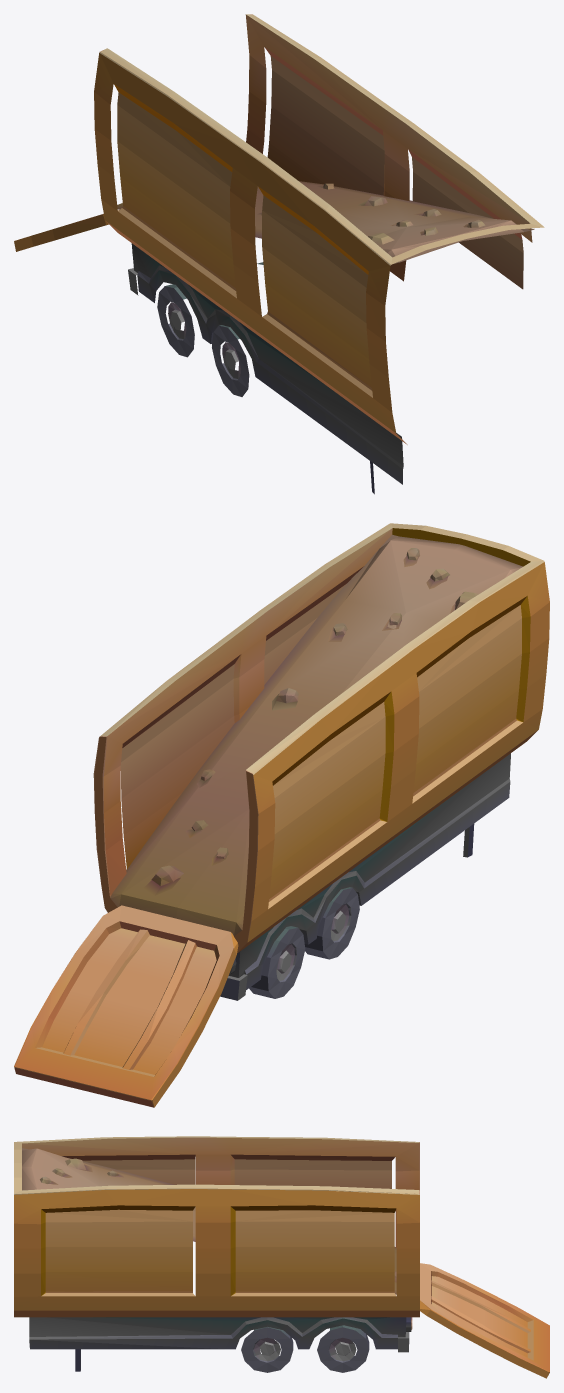
File: city_ramp5_truckRamp01.glb
3 views of the same model, one above another, from view 1: azimuth 30°, elevation 25°; view 2: azimuth 150°, elevation 25°; view 3: azimuth 270°, elevation 25° (orthographic). The views are drawn at different scales.
Parts seen in each view (by area): view 1: city_ramp5_truckRamp01; view 2: city_ramp5_truckRamp01; view 3: city_ramp5_truckRamp01.
Part boxes in pixels (x1,y1,x2,y2): city_ramp5_truckRamp01: (14, 14, 544, 494); city_ramp5_truckRamp01: (14, 523, 549, 1107); city_ramp5_truckRamp01: (14, 1136, 549, 1378).
Size of the model in its own units: 1.18 by 1.91 by 4.77.
